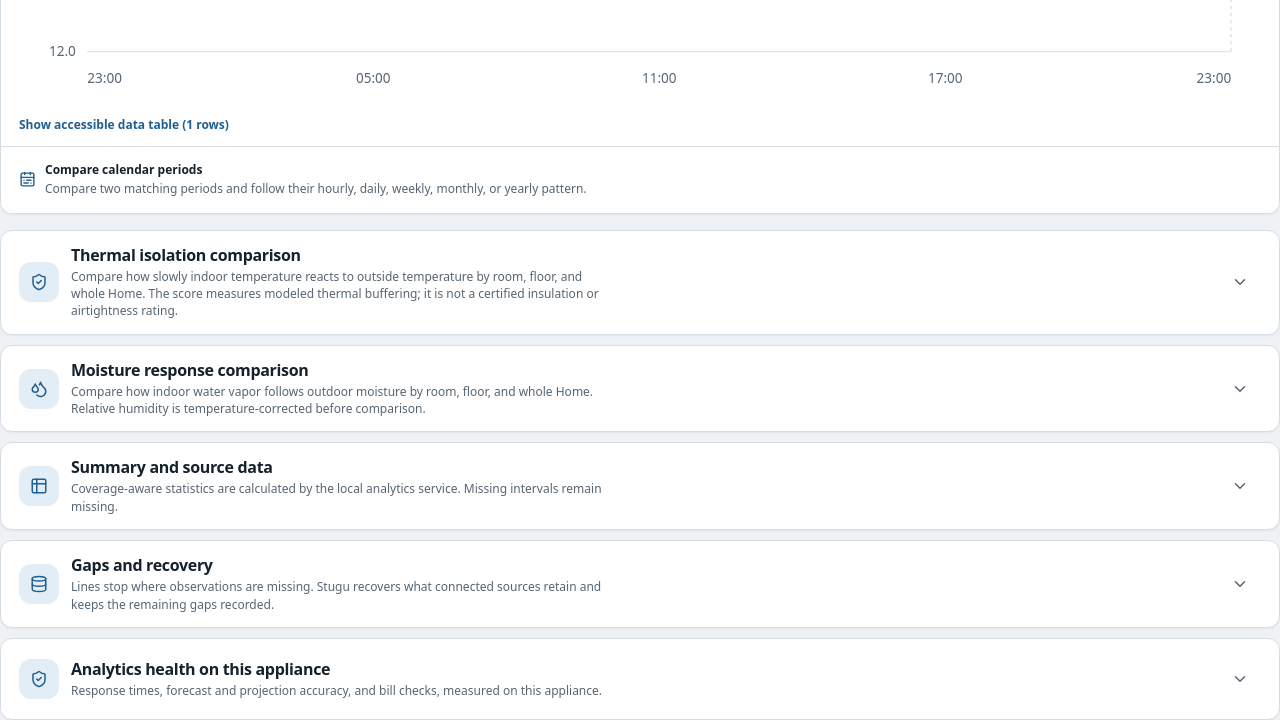
DataAnalyticsPage › waits for full history before judging gaps and ignores stale outage records over recorded data
(page scrolled)
Click the heading "Gaps and recovery": (39, 584) [1,541,1279,627]
(page scrolled)
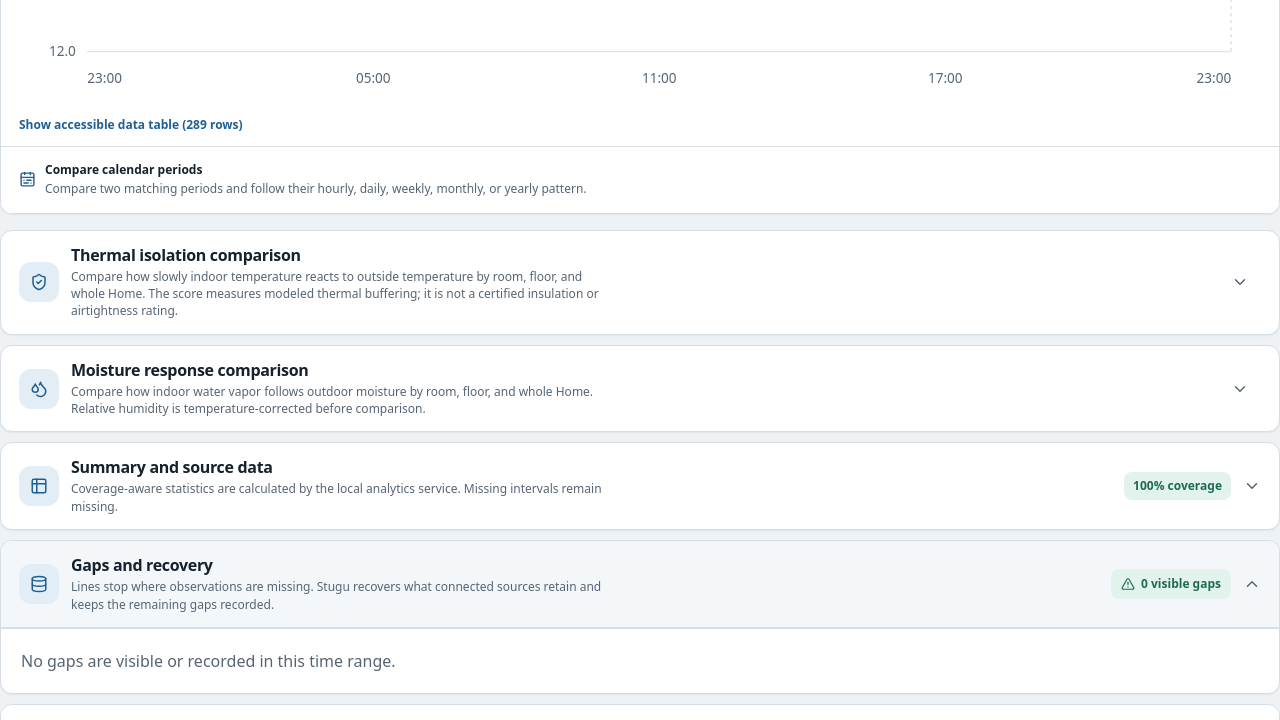
Expected: the text "0 visible gaps" is shown, [1111,569,1231,599]
Expected: the text "No gaps are visible or recorded in this time range." is shown, [1,628,1279,693]
